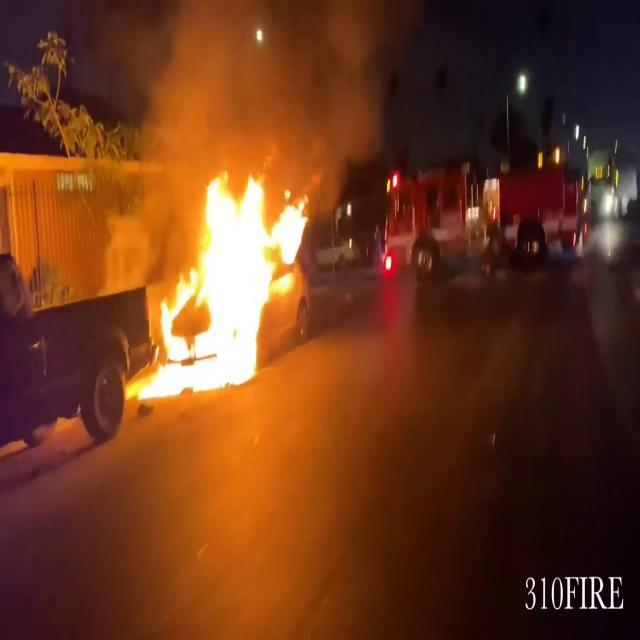Fire: (136, 162, 312, 405)
Smoke: (122, 0, 400, 182)
